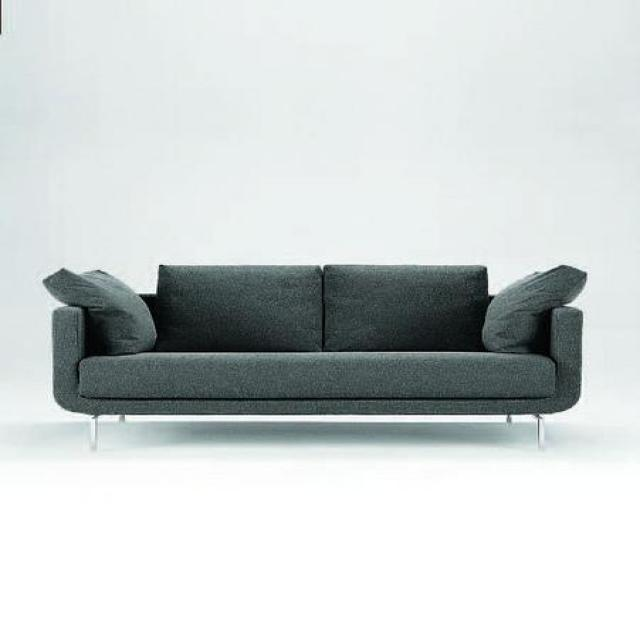sofa: (52, 262, 582, 450)
